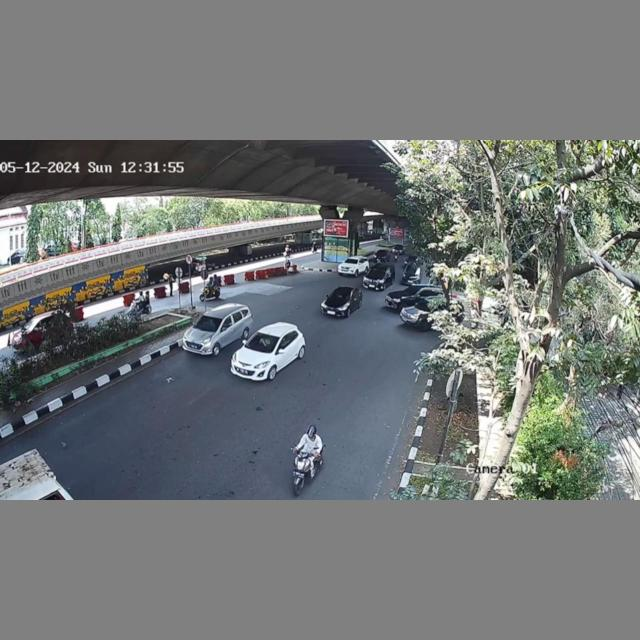windshield: (245, 331, 280, 352), (192, 315, 220, 331)
